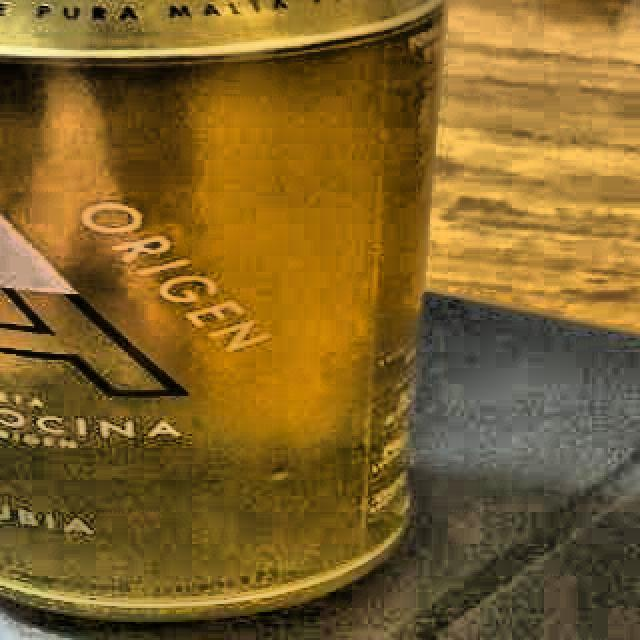metal: (0, 0, 442, 634)
